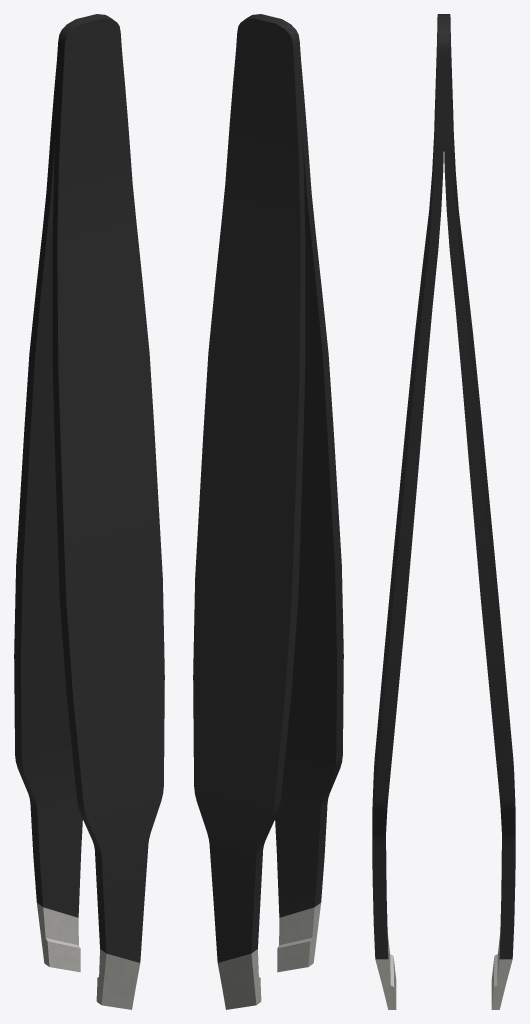
File: tweezers.fbx
3 renders of one model, left to right at view 1: azimuth 30°, elevation 25°; view 2: azimuth 150°, elevation 25°; view 3: azimuth 270°, elevation 25°, orthographic.
Parts seen in each view (by area): view 1: Body_0, MetalEnd_1; view 2: Body_0, MetalEnd_1; view 3: Body_0, MetalEnd_1.
Boxes of the visible parts, x1,y1,x2,y2 form: Body_0: (14,14,164,962); MetalEnd_1: (37,903,140,1009); Body_0: (193,14,343,962); MetalEnd_1: (217,903,320,1009); Body_0: (372,14,515,959); MetalEnd_1: (375,933,512,1009).
Size of the model in its own units: 0.24 by 2.31 by 0.3066.
2 materials, 2 textured.
